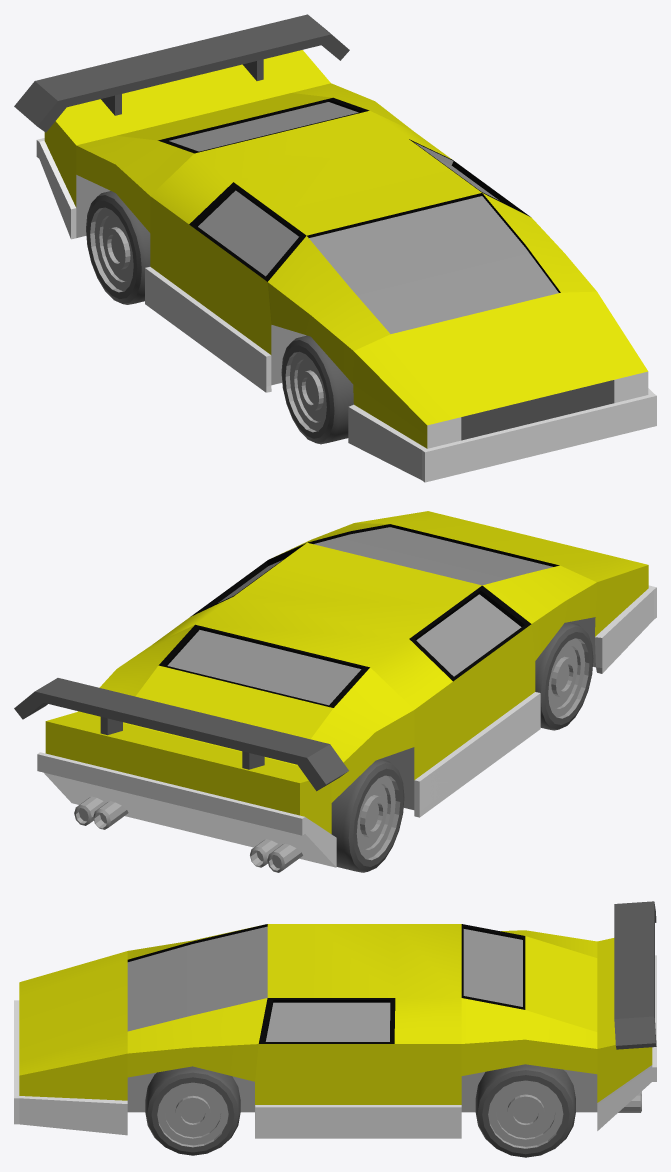
File: VoitureJaune.fbx
3 views of the same model, one above another, from view 1: azimuth 30°, elevation 25°; view 2: azimuth 150°, elevation 25°; view 3: azimuth 270°, elevation 25° (orthographic). The views are drawn at different scales.
Visible parts, largest first — view 1: polySurface5; view 2: polySurface5; view 3: polySurface5.
Boxes of the visible parts, box(x1,y1,x2,y2) form: polySurface5: box(14, 14, 656, 482); polySurface5: box(14, 511, 656, 872); polySurface5: box(14, 901, 656, 1157).
Bounding box in the file's own units: 6.48 × 3.32 × 13.35.
